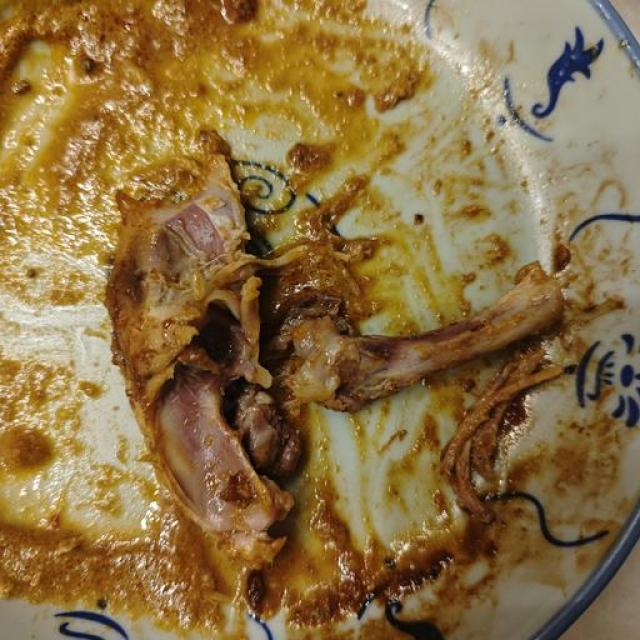organic: (77, 124, 591, 640)
